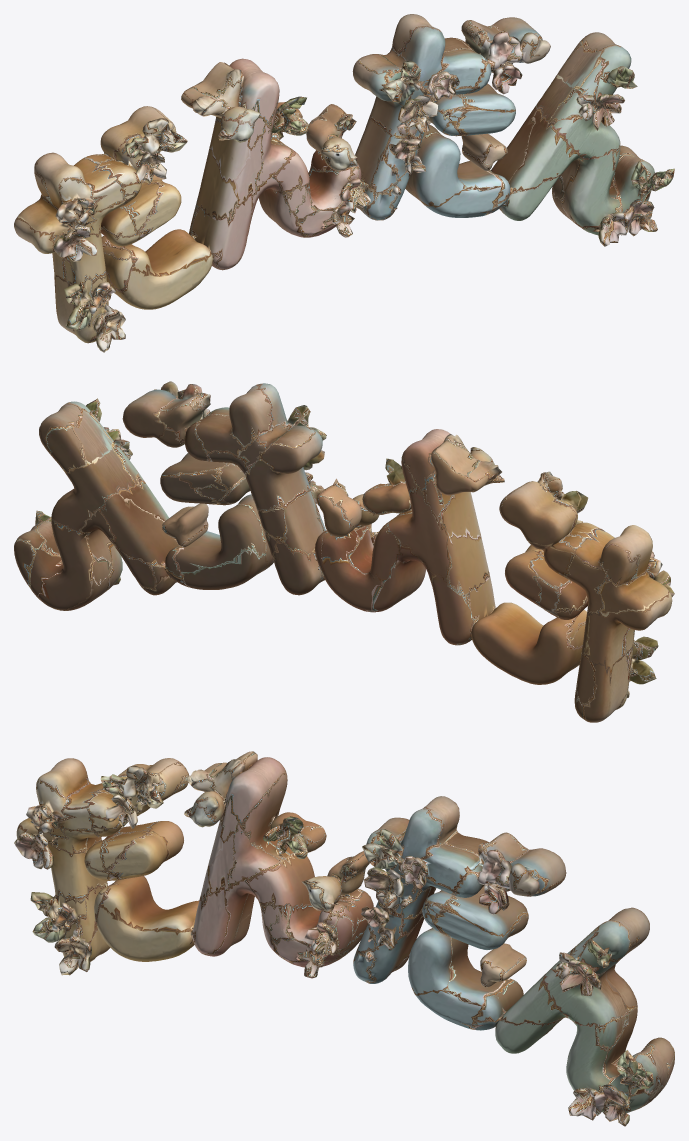
File: dandan-web.glb
3 views of the same model, one above another, from view 1: azimuth 30°, elevation 25°; view 2: azimuth 150°, elevation 25°; view 3: azimuth 330°, elevation 25° (orthographic). The views are drawn at different scales.
Visible parts, largest first — view 1: tripo_node_2ff8d65b-cce5-40de-8414-a9c3037bf7cf; view 2: tripo_node_2ff8d65b-cce5-40de-8414-a9c3037bf7cf; view 3: tripo_node_2ff8d65b-cce5-40de-8414-a9c3037bf7cf.
Part boxes in pixels (bbox=[...]): tripo_node_2ff8d65b-cce5-40de-8414-a9c3037bf7cf: bbox=[14, 14, 674, 352]; tripo_node_2ff8d65b-cce5-40de-8414-a9c3037bf7cf: bbox=[14, 381, 674, 722]; tripo_node_2ff8d65b-cce5-40de-8414-a9c3037bf7cf: bbox=[14, 751, 674, 1126].
Size of the model in its own units: 0.9792 by 0.3748 by 0.1148.
1 material, 1 textured.
